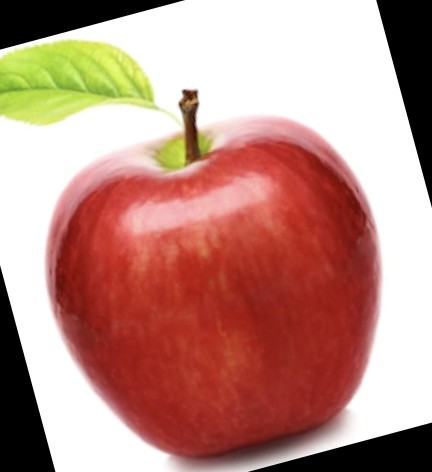fresh_apple: (48, 117, 383, 454)
